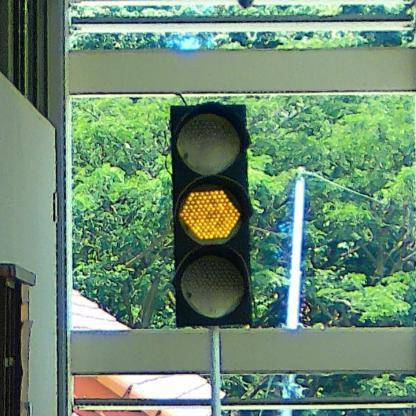yellow: (172, 104, 251, 326)
